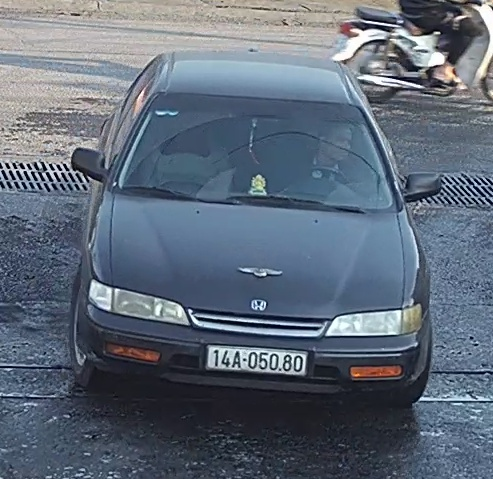vehicle plate: (204, 339, 307, 375)
